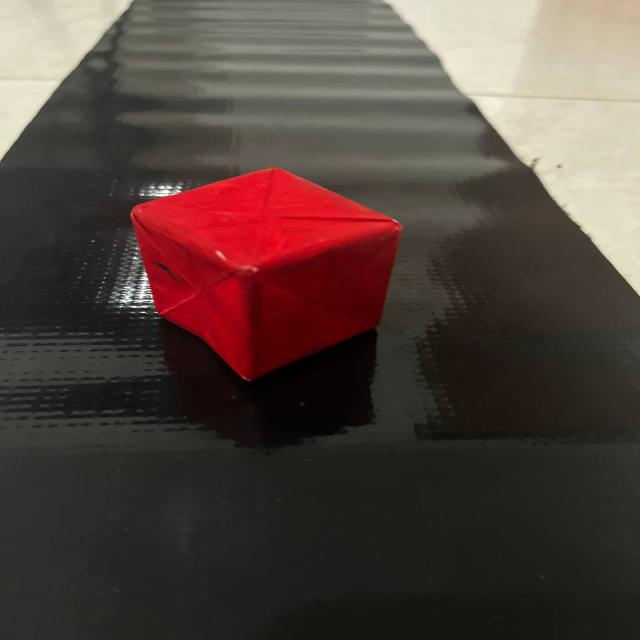Rojo: (112, 150, 426, 396)
